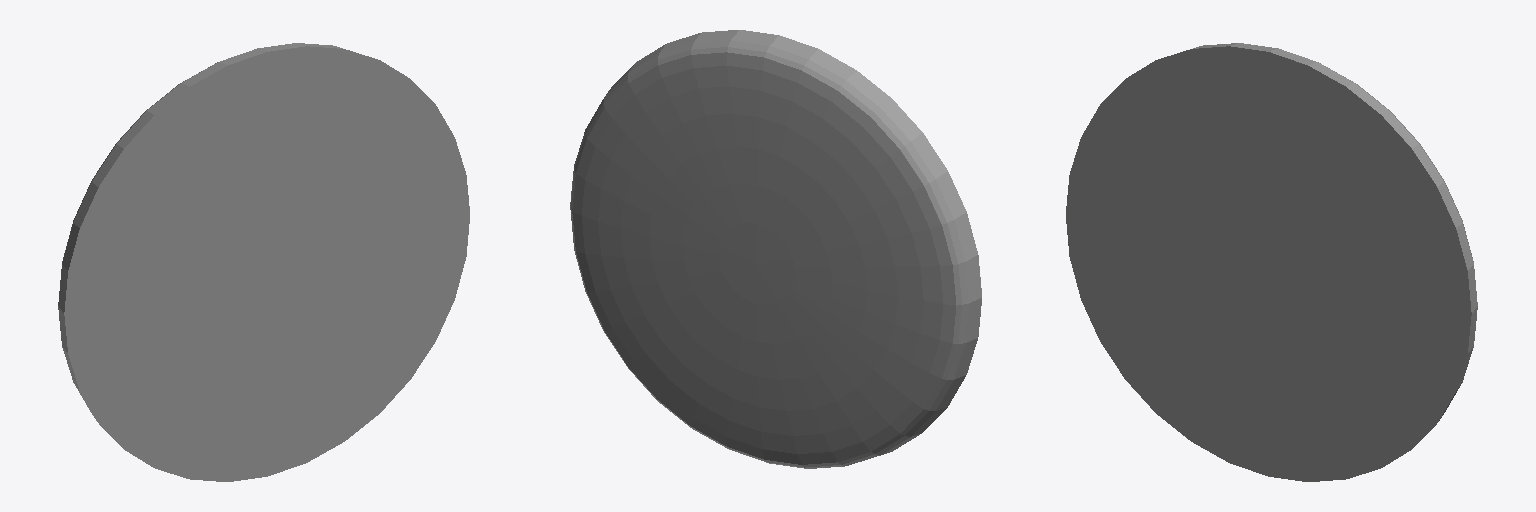
Rendered from frisbee.obj.
The picture shows the model from 3 angles: view 1: azimuth 30°, elevation 25°; view 2: azimuth 150°, elevation 25°; view 3: azimuth 330°, elevation 25°; orthographic projection.
Bounding box in the file's own units: 0.31 × 0.31 × 0.03.